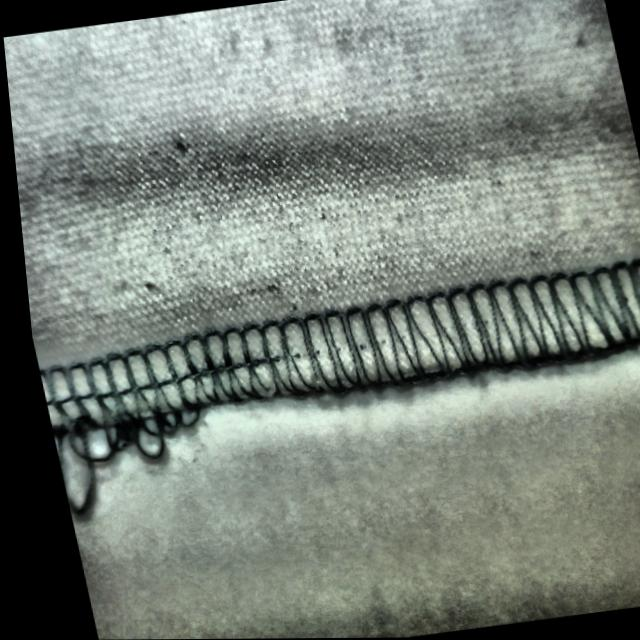Stitch: (27, 332, 211, 514)
